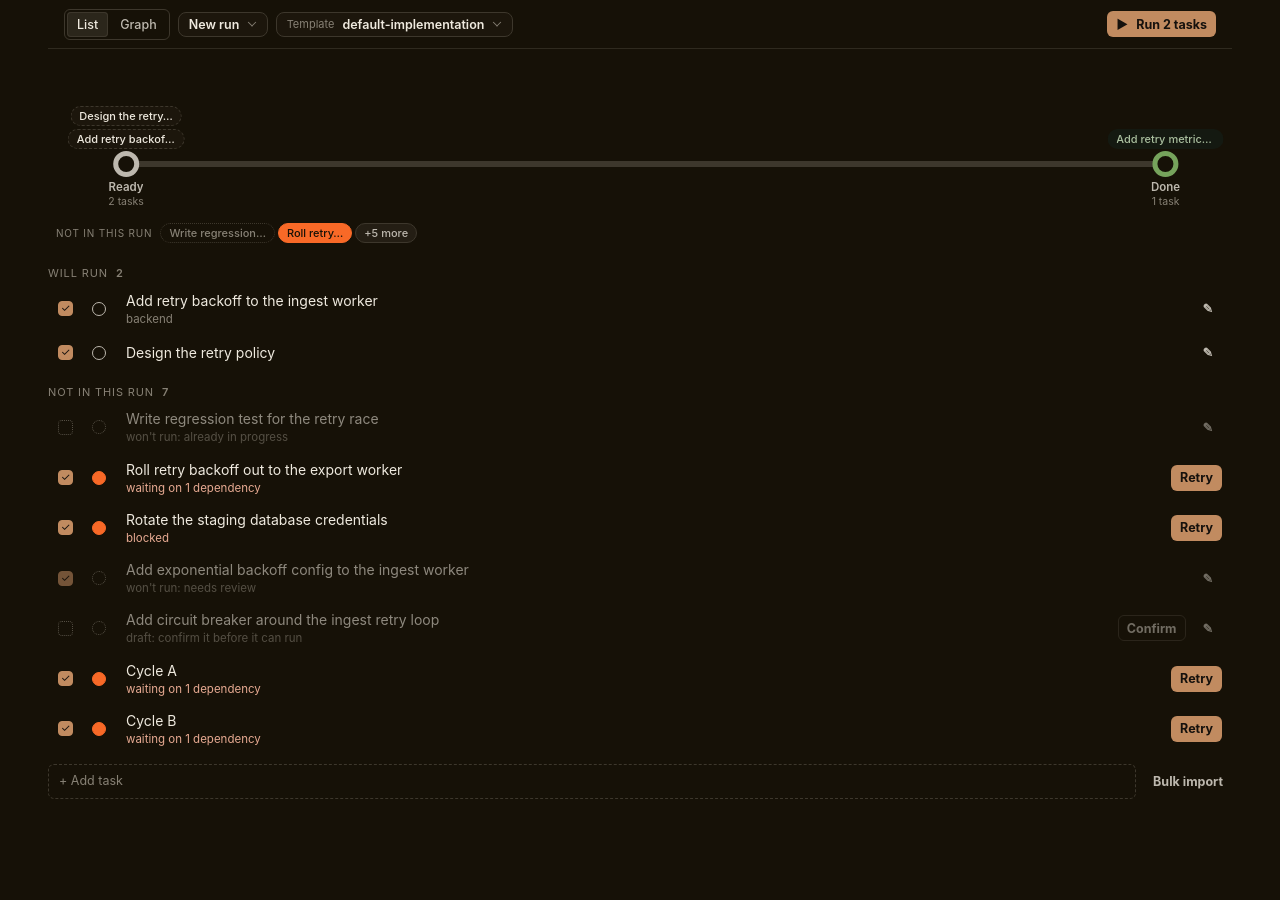
Test case: TasksTab › Plan (no runs yet) › keeps Bulk import beside + Add task, mutually exclusive with the detail sheet
Expected: the button "Add retry backoff to the ingest worker" is shown, [126, 290, 1170, 310]
Click the button "Bulk import".
click(1188, 781)  # box [1144, 768, 1232, 794]
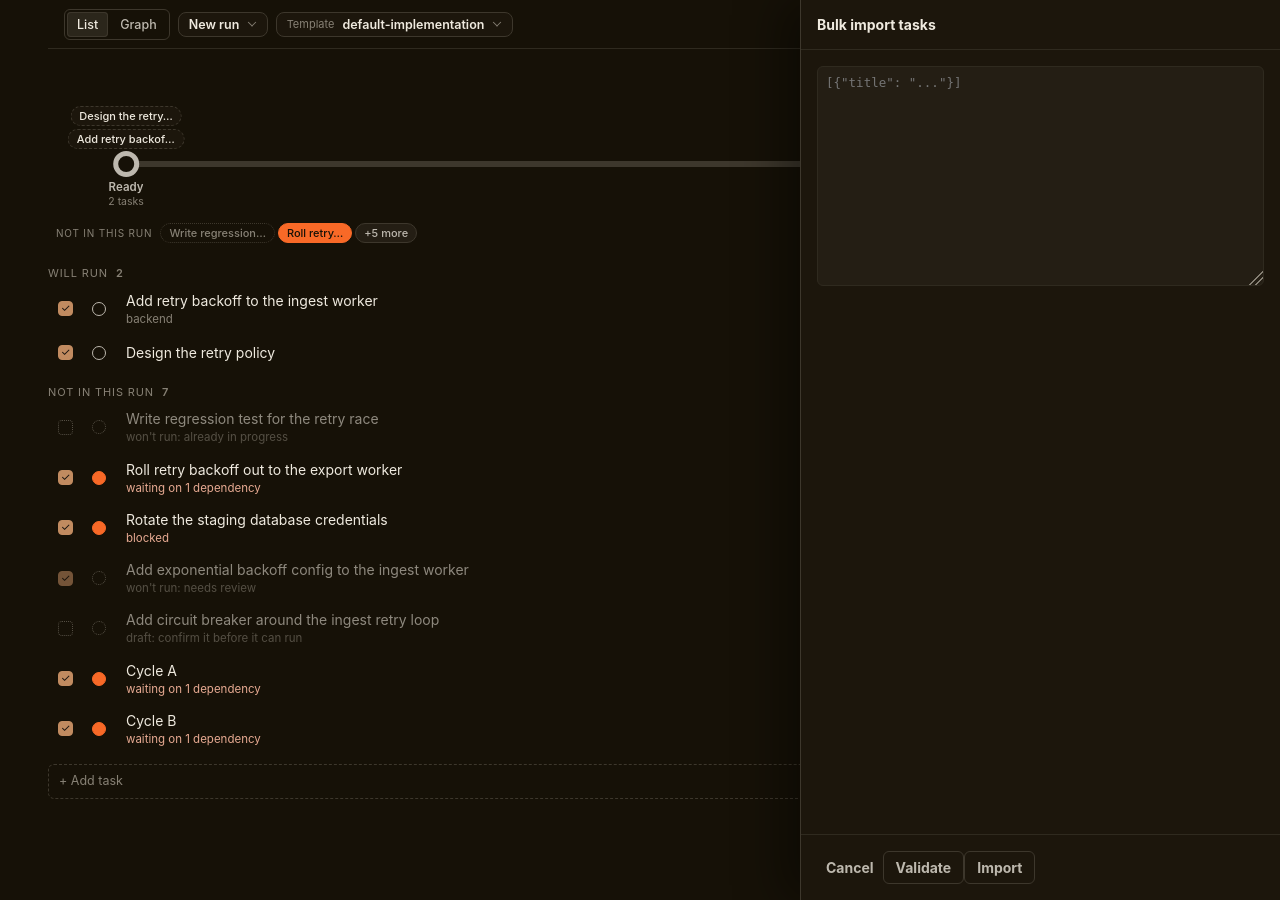
Expected: the text "Bulk import tasks" is shown, [801, 0, 1279, 50]
Click the button "Add retry backoff to the ingest worker".
click(252, 300)  # box [126, 290, 1170, 310]
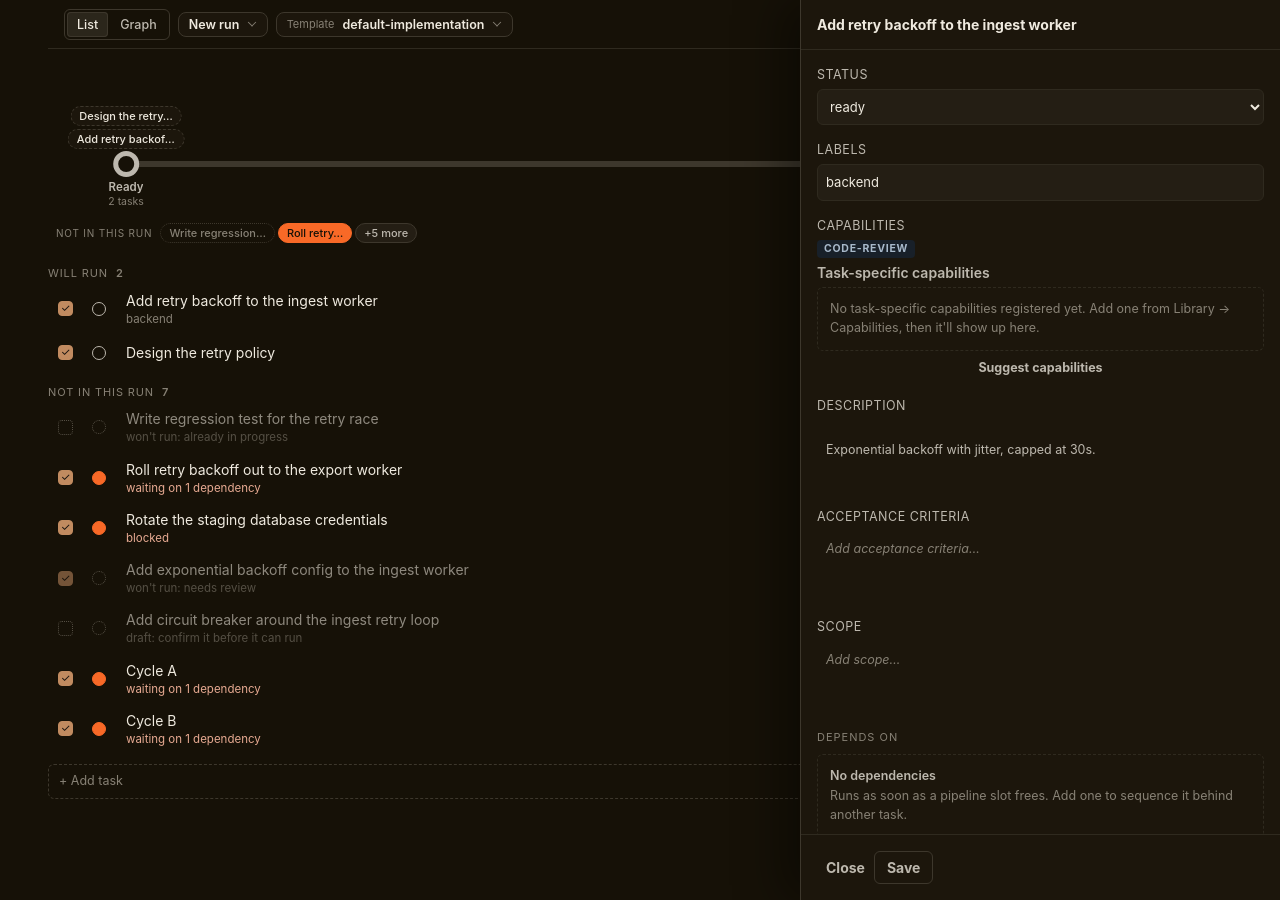
Expected: the field named "Title" is shown, [817, 16, 1264, 33]
Expected: the text "Bulk import tasks" is gone
